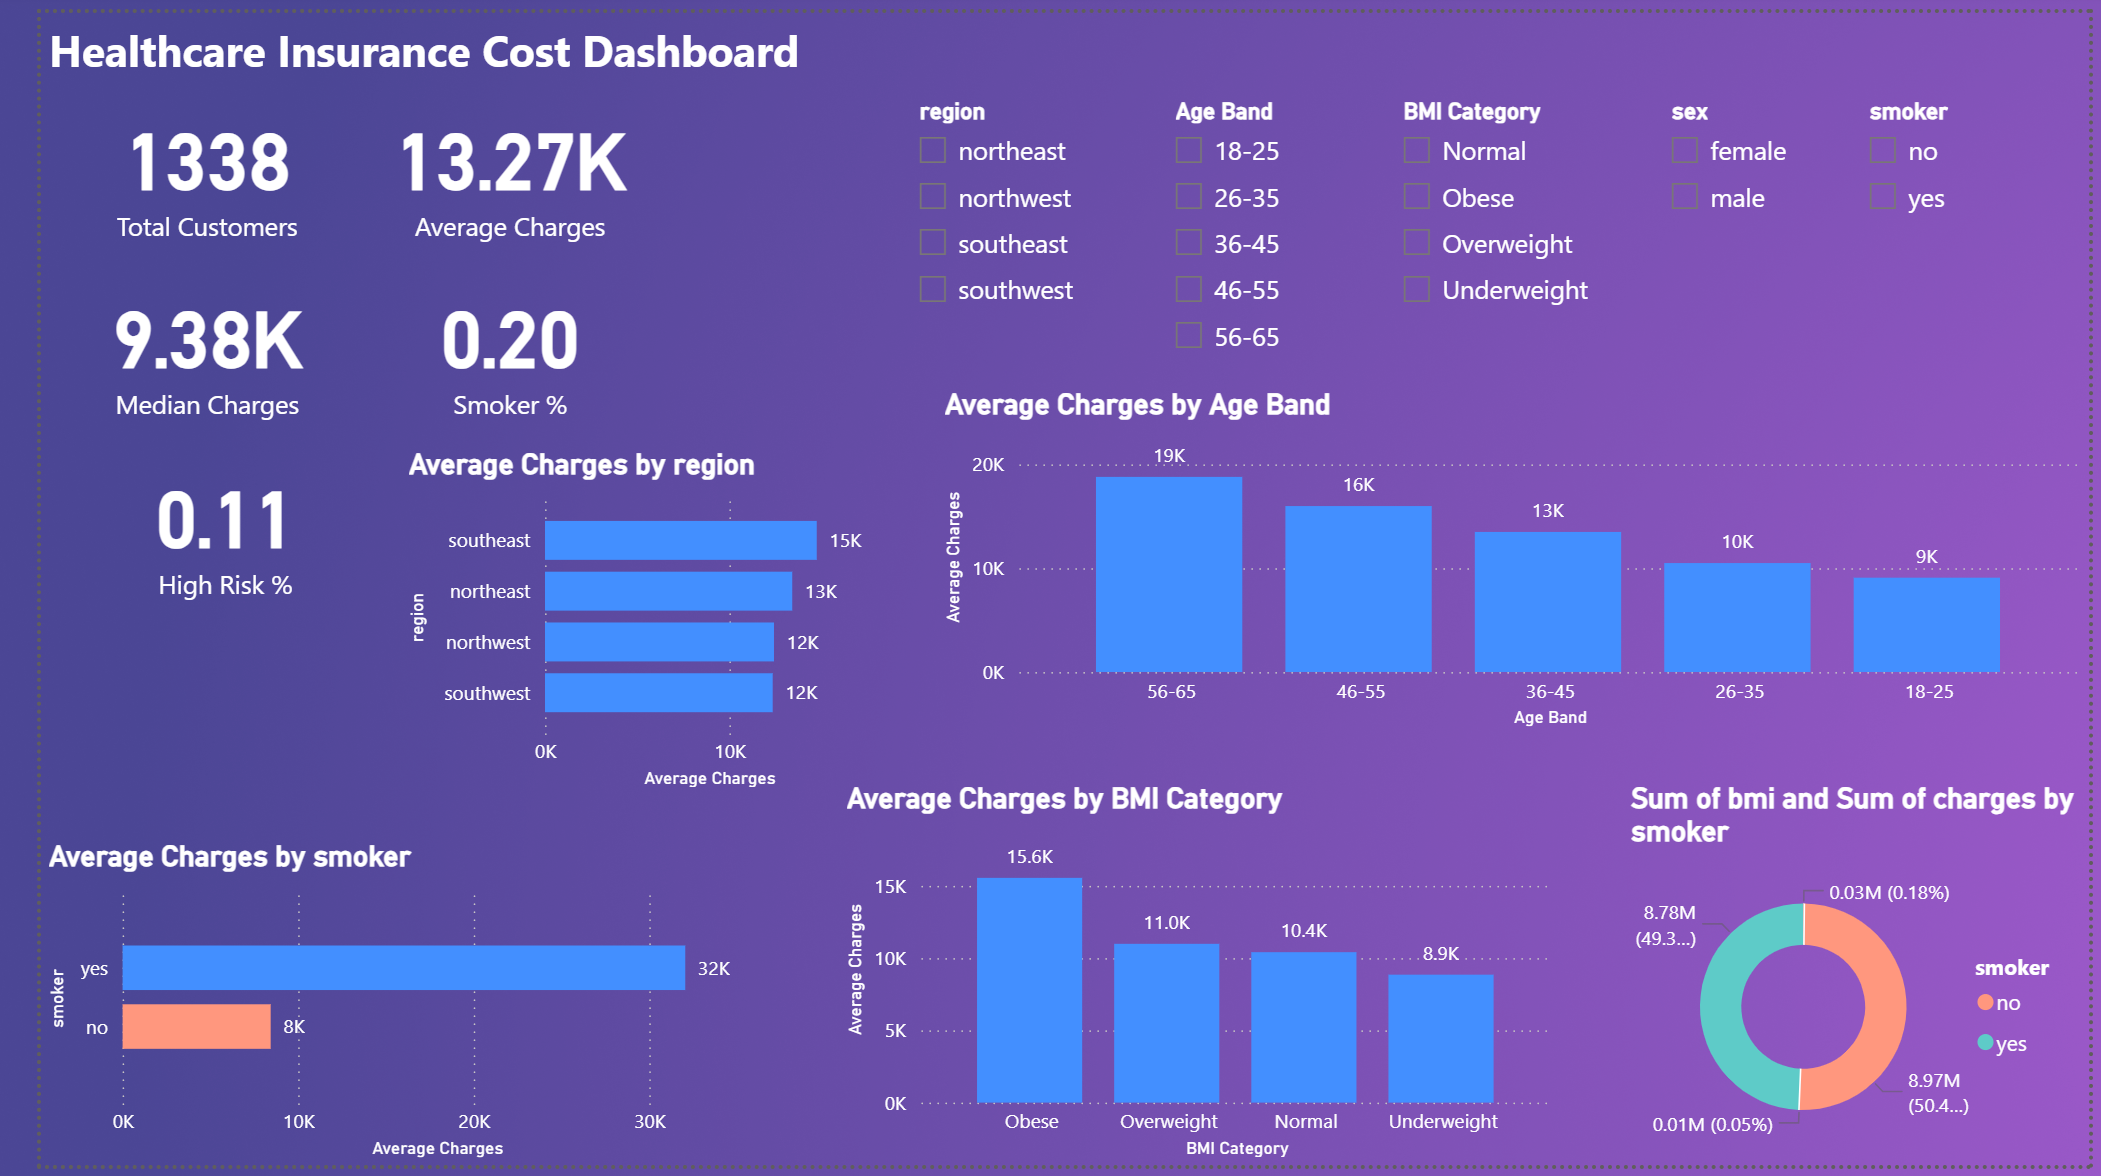

The page's visual inventory and layout, read from the dashboard file:
{"tool":"powerbi","page":{"name":"Page 1","canvas":[1280,720],"ordinal":0},"visuals":[{"type":"card","fields":{"Values":["insurance.Total Customers"]},"box":[12.9,47.1,182.9,101.4],"z":0},{"type":"card","fields":{"Values":["insurance.Average Charges"]},"box":[207.1,47.1,171.4,101.4],"z":1000},{"type":"card","fields":{"Values":["insurance.Median Charges"]},"box":[12.9,158.6,182.9,101.4],"z":2000},{"type":"card","fields":{"Values":["insurance.High Risk %"]},"box":[24.3,271.4,182.9,101.4],"z":3000},{"type":"card","fields":{"Values":["insurance.Smoker %"]},"box":[207.1,158.6,171.4,101.4],"z":4000},{"type":"clusteredBarChart","fields":{"Category":["insurance.smoker"],"Y":["insurance.Average Charges"]},"box":[0,516.2,460,203.8],"z":5000},{"type":"clusteredColumnChart","fields":{"Category":["insurance.BMI Category"],"Y":["insurance.Average Charges"]},"box":[498.8,480,451.2,240],"z":6000},{"type":"clusteredColumnChart","fields":{"Category":["insurance.Age Band"],"Y":["insurance.Average Charges"]},"box":[560,234.3,720,217.1],"z":7000},{"type":"barChart","fields":{"Category":["insurance.region"],"Y":["insurance.Average Charges"]},"box":[225,271.2,311.2,217.5],"z":8000},{"type":"donutChart","fields":{"Y":["Sum(insurance.bmi)","Sum(insurance.charges)"],"Category":["insurance.smoker"]},"box":[989.3,479.4,290.7,241],"z":9000},{"type":"slicer","fields":{"Values":["insurance.region"]},"box":[535.7,47.1,135.7,187.1],"z":10000},{"type":"textbox","box":[0,0,498.6,47.1],"z":11000},{"type":"slicer","fields":{"Values":["insurance.Age Band"]},"box":[695.7,47.1,120,187.1],"z":12000},{"type":"slicer","fields":{"Values":["insurance.BMI Category"]},"box":[838.6,47.1,150,187.1],"z":13000},{"type":"slicer","fields":{"Values":["insurance.sex"]},"box":[1005.7,47.1,110,187.1],"z":14000},{"type":"slicer","fields":{"Values":["insurance.smoker"]},"box":[1130,47.1,124.3,187.1],"z":15000}]}

Visuals, with their boxes in screenshot pixels (x1, y1, x2, y2), scaled from the page's 1280x720 canvas onto the 2101x1176 screenshot:
card - insurance.Total Customers: x1=21, y1=77, x2=321, y2=243
card - insurance.Average Charges: x1=340, y1=77, x2=621, y2=243
card - insurance.Median Charges: x1=21, y1=259, x2=321, y2=425
card - insurance.High Risk %: x1=40, y1=443, x2=340, y2=609
card - insurance.Smoker %: x1=340, y1=259, x2=621, y2=425
clusteredBarChart - insurance.smoker x insurance.Average Charges: x1=0, y1=843, x2=755, y2=1175
clusteredColumnChart - insurance.BMI Category x insurance.Average Charges: x1=819, y1=784, x2=1559, y2=1175
clusteredColumnChart - insurance.Age Band x insurance.Average Charges: x1=919, y1=383, x2=2100, y2=737
barChart - insurance.region x insurance.Average Charges: x1=369, y1=443, x2=880, y2=798
donutChart - Sum(insurance.bmi) x Sum(insurance.charges): x1=1624, y1=783, x2=2100, y2=1175
slicer - insurance.region: x1=879, y1=77, x2=1102, y2=383
textbox: x1=0, y1=0, x2=818, y2=77
slicer - insurance.Age Band: x1=1142, y1=77, x2=1339, y2=383
slicer - insurance.BMI Category: x1=1376, y1=77, x2=1623, y2=383
slicer - insurance.sex: x1=1651, y1=77, x2=1831, y2=383
slicer - insurance.smoker: x1=1855, y1=77, x2=2059, y2=383
